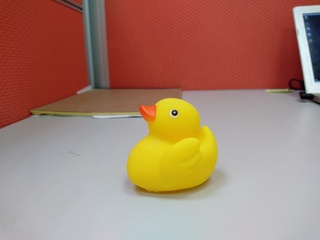duck: (123, 96, 227, 199)
